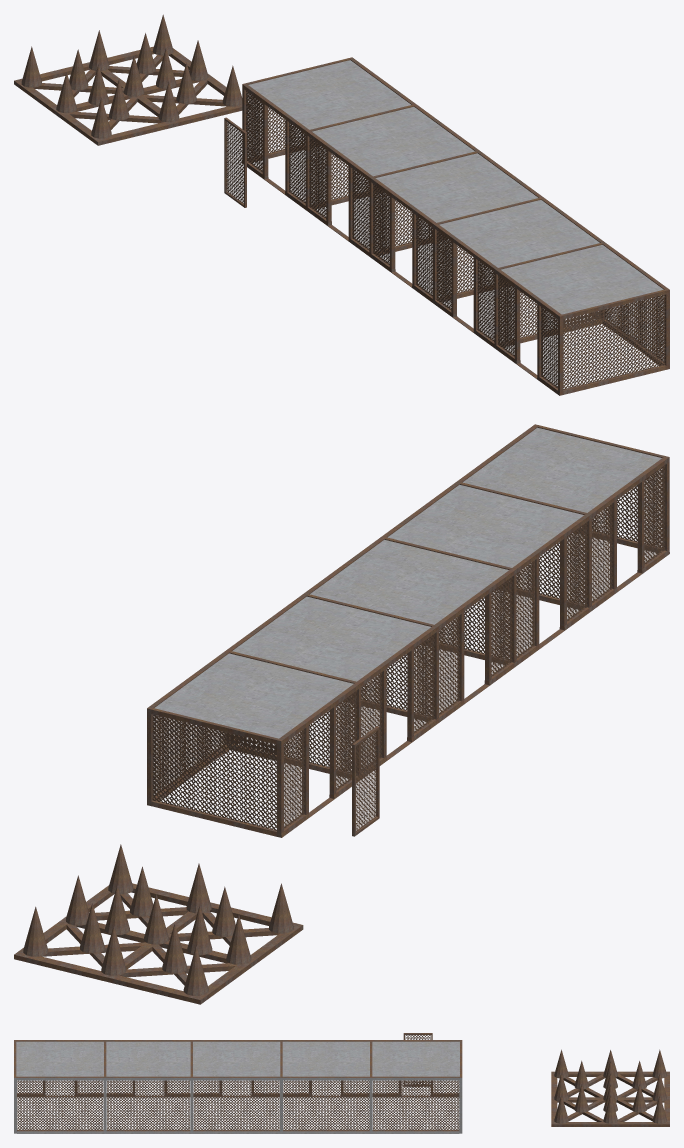
The model's file is low-poly_spikes_and_cages.glb.
3 renders of one model, top to bottom at view 1: azimuth 30°, elevation 25°; view 2: azimuth 150°, elevation 25°; view 3: azimuth 270°, elevation 25°, orthographic. The views are drawn at different scales.
Visible parts, largest first — view 1: SpawnCages, NewSpikeTrap, CageDoor; view 2: SpawnCages, NewSpikeTrap, CageDoor; view 3: SpawnCages, NewSpikeTrap, CageDoor.
Boxes of the visible parts, x1,y1,x2,y2 form: SpawnCages: (242, 57, 669, 395); NewSpikeTrap: (14, 14, 250, 145); CageDoor: (224, 117, 246, 207); SpawnCages: (147, 424, 669, 837); NewSpikeTrap: (14, 844, 303, 1004); CageDoor: (352, 726, 379, 836); SpawnCages: (14, 1040, 462, 1133); NewSpikeTrap: (551, 1049, 669, 1126); CageDoor: (403, 1033, 432, 1086).
Bounding box in the file's own units: 5.39 × 2.37 × 22.68.
Materials: 6 (6 with a texture image).
